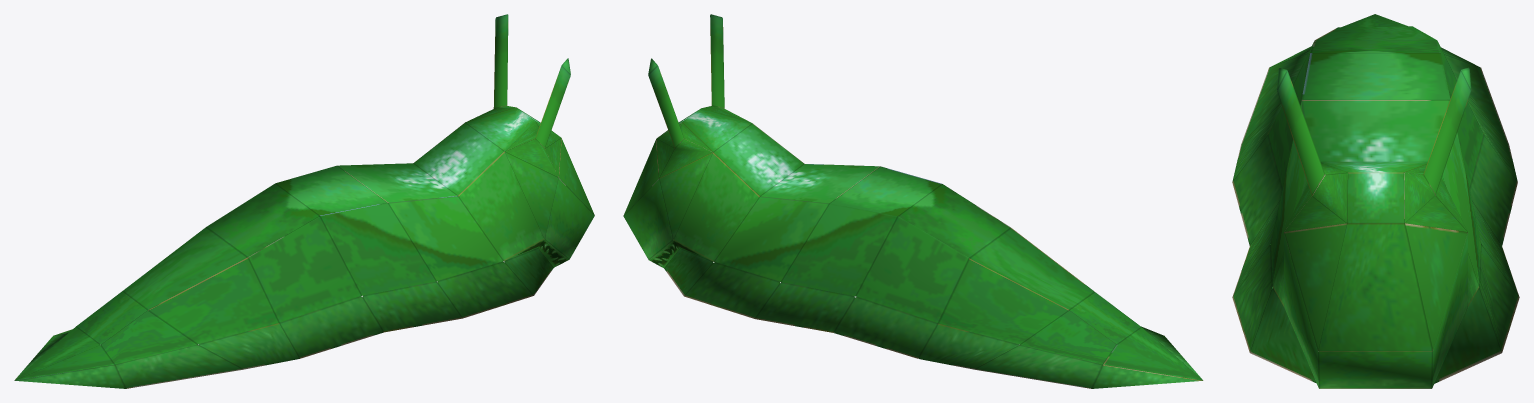
3 renders of one model, left to right at view 1: azimuth 30°, elevation 25°; view 2: azimuth 150°, elevation 25°; view 3: azimuth 270°, elevation 25°, orthographic. The views are drawn at different scales.
Visible parts, largest first — view 1: T1L5M006_18; view 2: T1L5M006_18; view 3: T1L5M006_18.
Boxes of the visible parts, box(x1,y1,x2,y2) form: T1L5M006_18: box(14, 14, 594, 388); T1L5M006_18: box(623, 14, 1203, 388); T1L5M006_18: box(1232, 14, 1519, 388).
Bounding box in the file's own units: 1.05 × 0.3906 × 0.3203.
